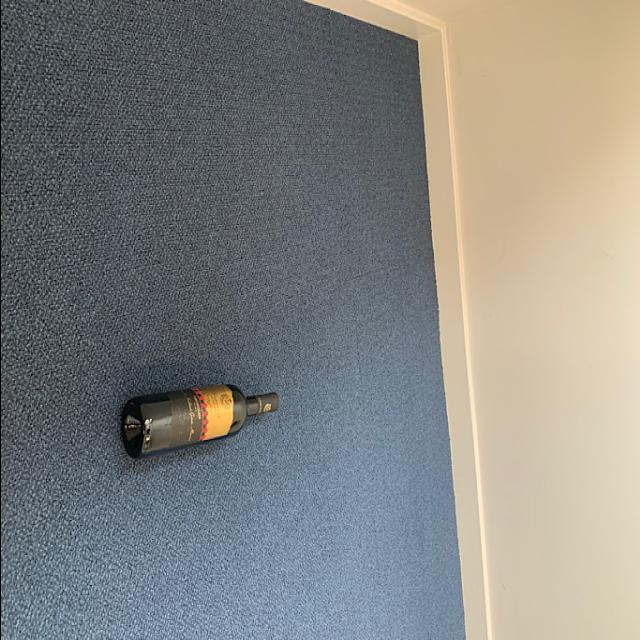litter: (117, 378, 280, 462)
